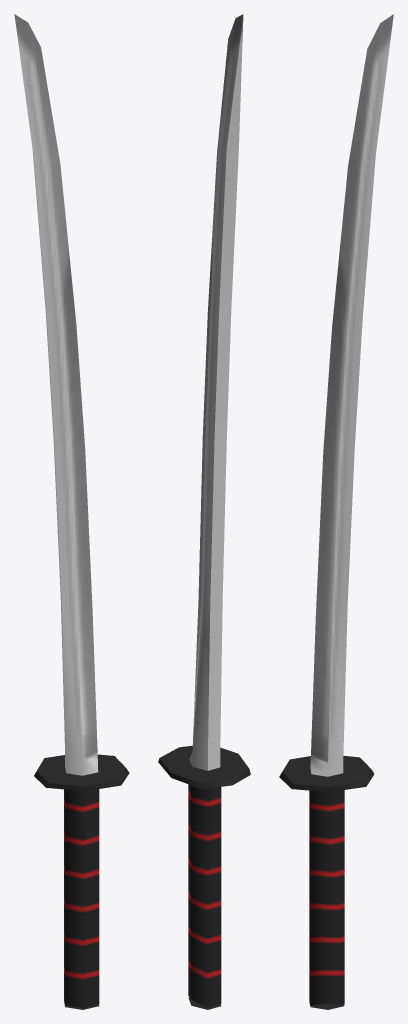
Rendered from WakizashiB.fbx.
3 views of the same model, side by side, from view 1: azimuth 90°, elevation 25°; view 2: azimuth 210°, elevation 25°; view 3: azimuth 270°, elevation 25° (orthographic). The views are drawn at different scales.
Parts seen in each view (by area): view 1: node_2f9aac36_5747_4e4e_95cd_e76899a5701e_mesh0; view 2: node_2f9aac36_5747_4e4e_95cd_e76899a5701e_mesh0; view 3: node_2f9aac36_5747_4e4e_95cd_e76899a5701e_mesh0.
Boxes of the visible parts, box(x1,y1,x2,y2) form: node_2f9aac36_5747_4e4e_95cd_e76899a5701e_mesh0: box(14, 14, 129, 1009); node_2f9aac36_5747_4e4e_95cd_e76899a5701e_mesh0: box(158, 14, 250, 1009); node_2f9aac36_5747_4e4e_95cd_e76899a5701e_mesh0: box(279, 14, 393, 1009).
Bounding box in the file's own units: 0.0363 × 0.5006 × 0.0527.
